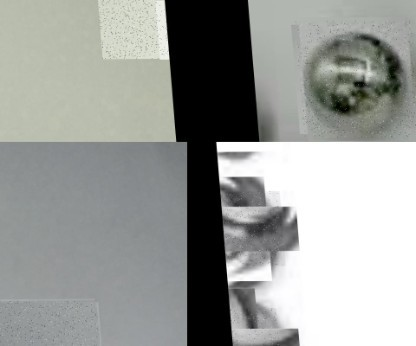ironball: (293, 20, 415, 137), (217, 191, 281, 266), (0, 300, 100, 346), (96, 0, 157, 59), (224, 308, 274, 346), (153, 0, 167, 59)
